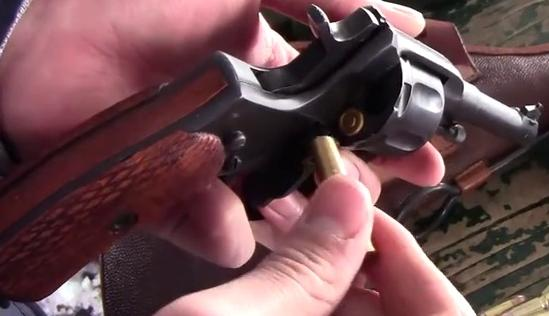gun: (1, 1, 549, 316)
